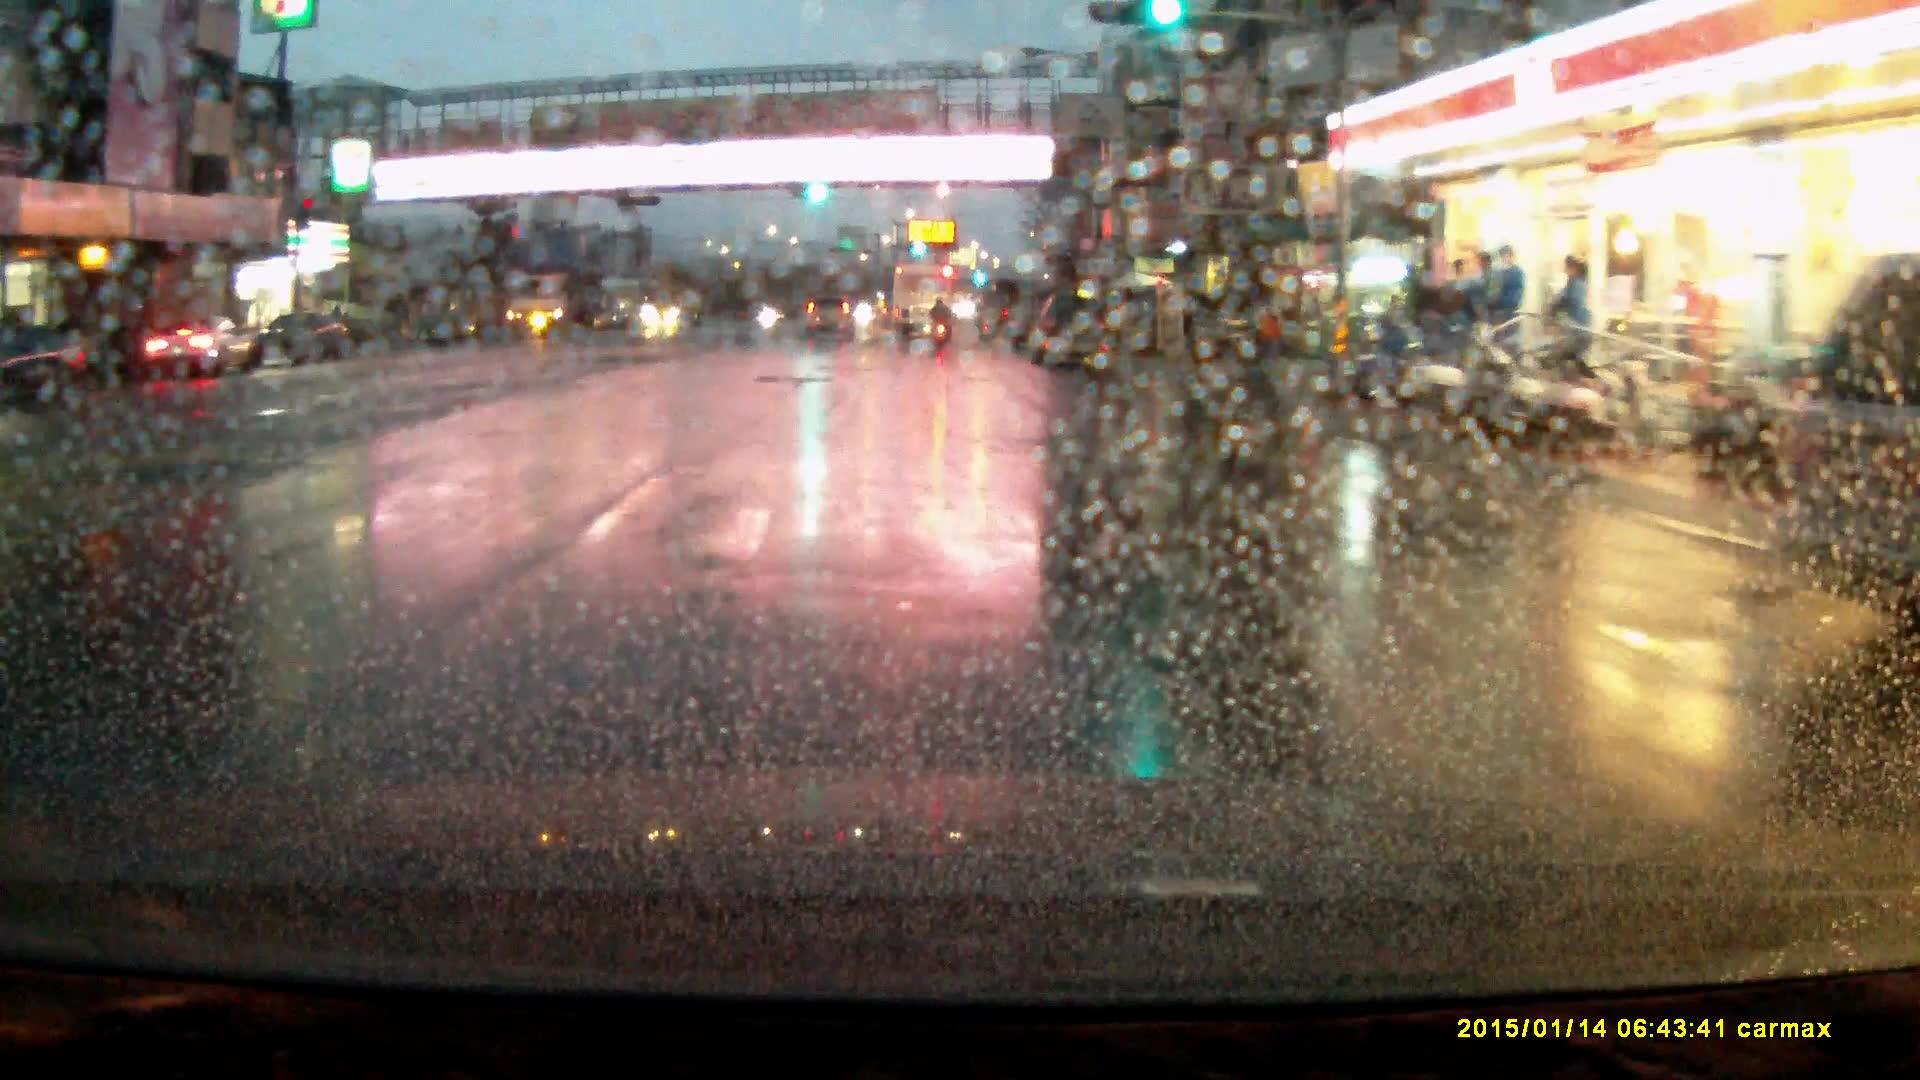rider: (930, 292, 956, 348)
vehicle: (506, 261, 604, 338), (143, 316, 253, 379), (1035, 290, 1113, 371), (253, 309, 360, 366), (1191, 295, 1276, 359), (893, 258, 953, 340), (648, 283, 708, 328), (805, 295, 859, 342)
